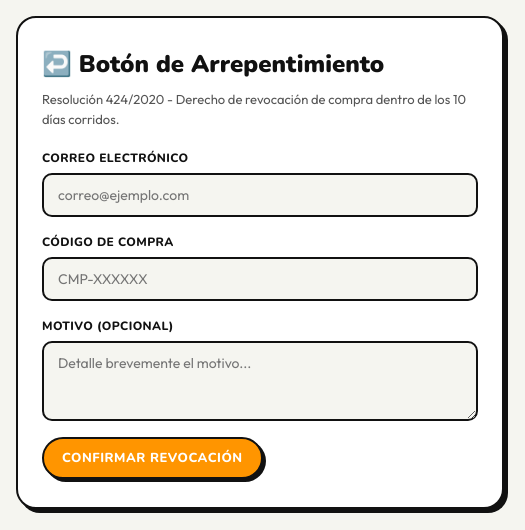
Arrepentimiento Page › simula fetch con vi.spyOn, verifica respuesta con codigo_tramite y confirma que la petición NO incluye la cabecera Authorization
Type "cliente@prueba.com" into the field labelled "Correo Electrónico".
click(260, 195); type("cliente@prueba.com")  # box 42,173 -> 478,217
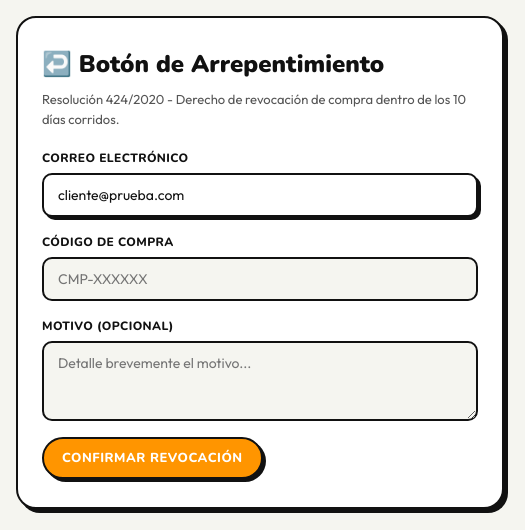
Type "CMP-ABC123" into the field labelled "Código de Compra".
click(260, 279); type("CMP-ABC123")  # box 42,257 -> 478,301
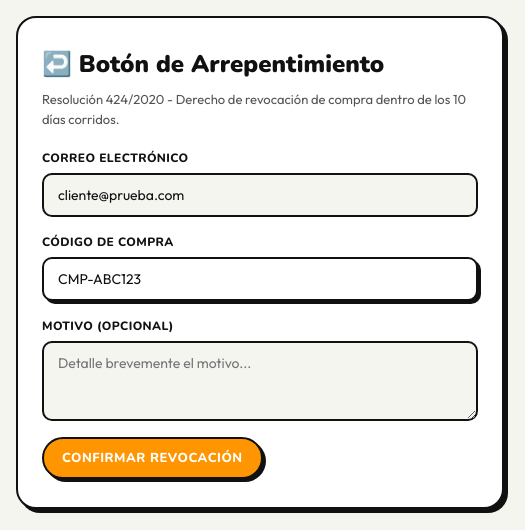
Click the button "Confirmar Revocación".
click(152, 458)  # box 42,437 -> 263,479
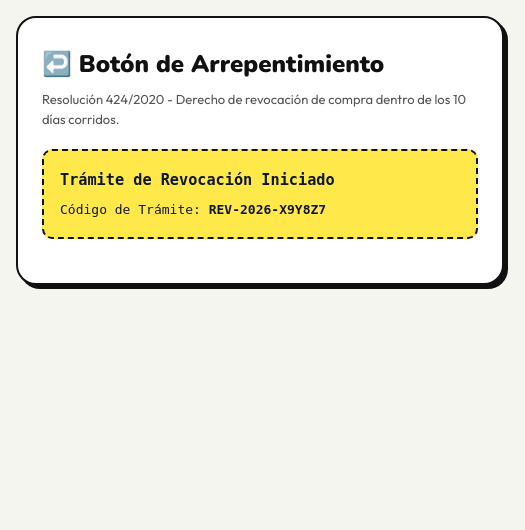
Expected: the text "REV-2026-X9Y8Z7" is shown, 209,202 -> 326,217
